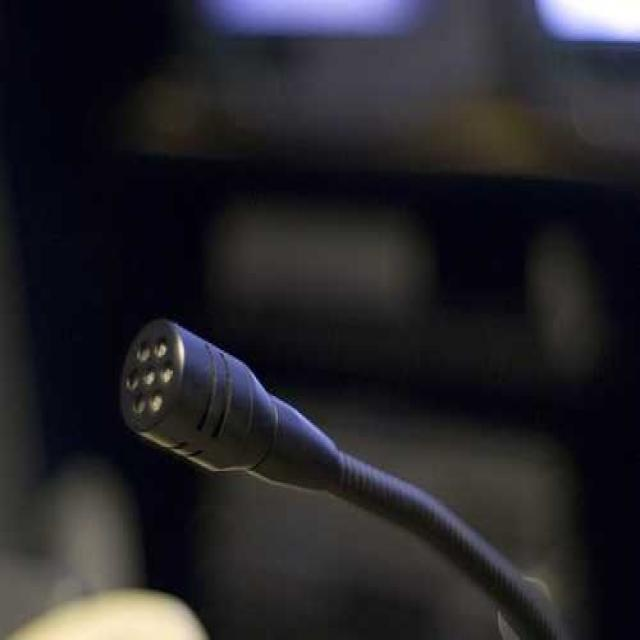microphone: (137, 326, 574, 638)
